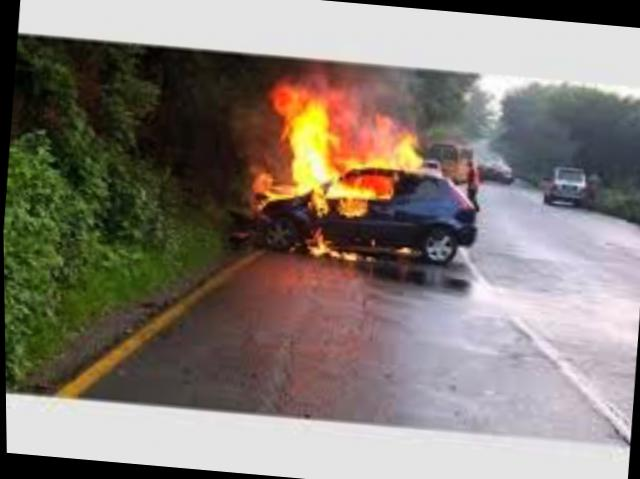fire: (243, 75, 434, 235)
